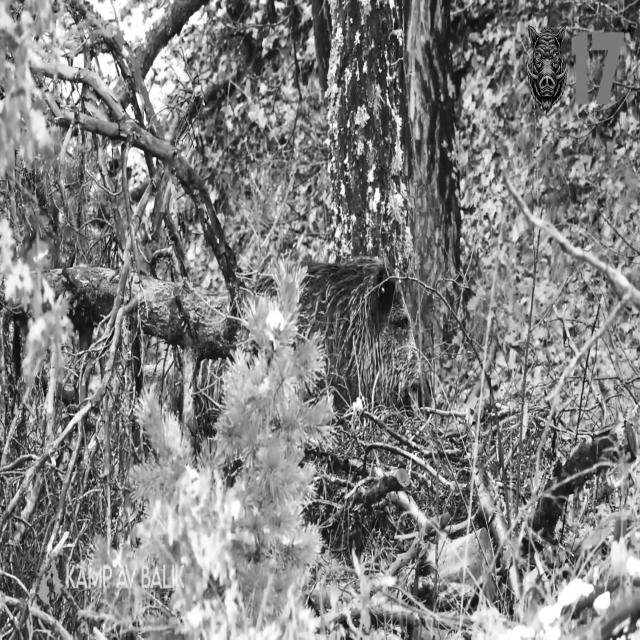boar: (298, 257, 422, 408), (527, 24, 569, 112)
